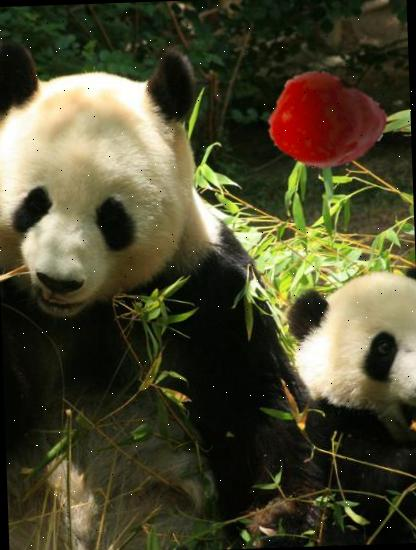Tomato: (269, 67, 383, 181)
